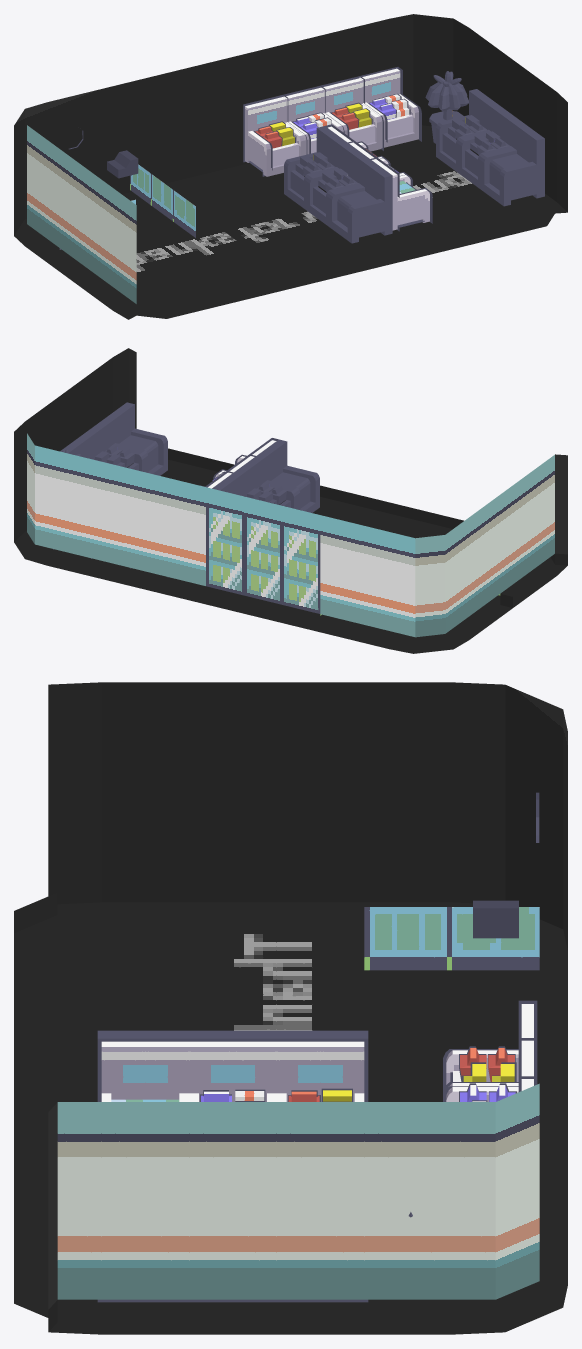
Rendered from pokemart.glb.
3 views of the same model, one above another, from view 1: azimuth 30°, elevation 25°; view 2: azimuth 150°, elevation 25°; view 3: azimuth 270°, elevation 25° (orthographic). The views are drawn at different scales.
Parts seen in each view (by area): view 1: Plane.017, Plane.006, Plane.003, Plane.014, Plane.016, Plane.009, Plane.008, Plane.011, Plane.018, Plane.007, Plane.000, Plane.013 (+2 smaller); view 2: Plane.017, Plane.006, Plane.003; view 3: Plane.017, Plane.008, Plane.006, Plane.014, Plane.000, Plane.011, Plane.003, Plane.013.
Boxes of the visible parts, x1=… form: Plane.017: x1=14, y1=14, x2=567, y2=319; Plane.006: x1=284, y1=126, x2=392, y2=243; Plane.003: x1=436, y1=89, x2=544, y2=206; Plane.014: x1=245, y1=97, x2=304, y2=176; Plane.016: x1=359, y1=68, x2=418, y2=148; Plane.009: x1=321, y1=78, x2=381, y2=151; Plane.008: x1=328, y1=126, x2=429, y2=230; Plane.011: x1=283, y1=87, x2=342, y2=154; Plane.018: x1=425, y1=71, x2=468, y2=143; Plane.007: x1=325, y1=124, x2=432, y2=231; Plane.000: x1=107, y1=150, x2=138, y2=178; Plane.013: x1=243, y1=95, x2=307, y2=176; Plane.017: x1=14, y1=348, x2=567, y2=653; Plane.006: x1=212, y1=439, x2=319, y2=512; Plane.003: x1=60, y1=402, x2=167, y2=475; Plane.017: x1=14, y1=682, x2=567, y2=1334; Plane.008: x1=101, y1=1041, x2=364, y2=1101; Plane.006: x1=97, y1=1030, x2=368, y2=1101; Plane.014: x1=446, y1=1004, x2=533, y2=1093; Plane.000: x1=473, y1=900, x2=518, y2=938; Plane.011: x1=446, y1=1041, x2=533, y2=1101; Plane.003: x1=97, y1=1299, x2=368, y2=1302; Plane.013: x1=443, y1=1000, x2=537, y2=1094.
Size of the model in its own units: 7.39 by 1.75 by 4.
1 material, 1 textured.
